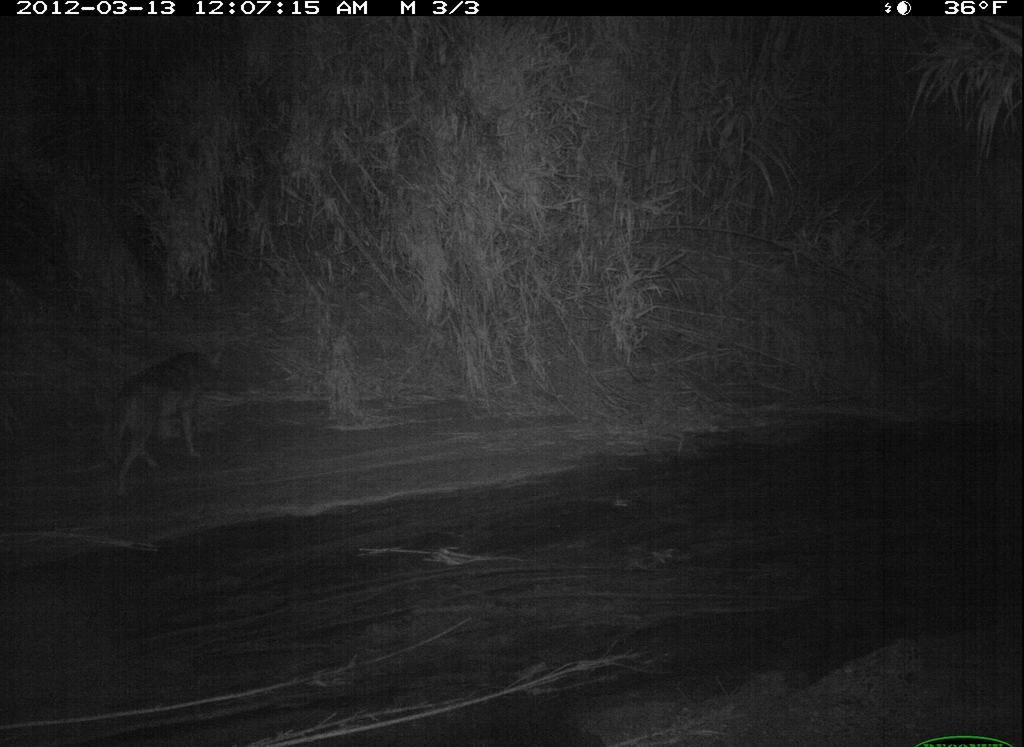coyote: (100, 345, 231, 493)
